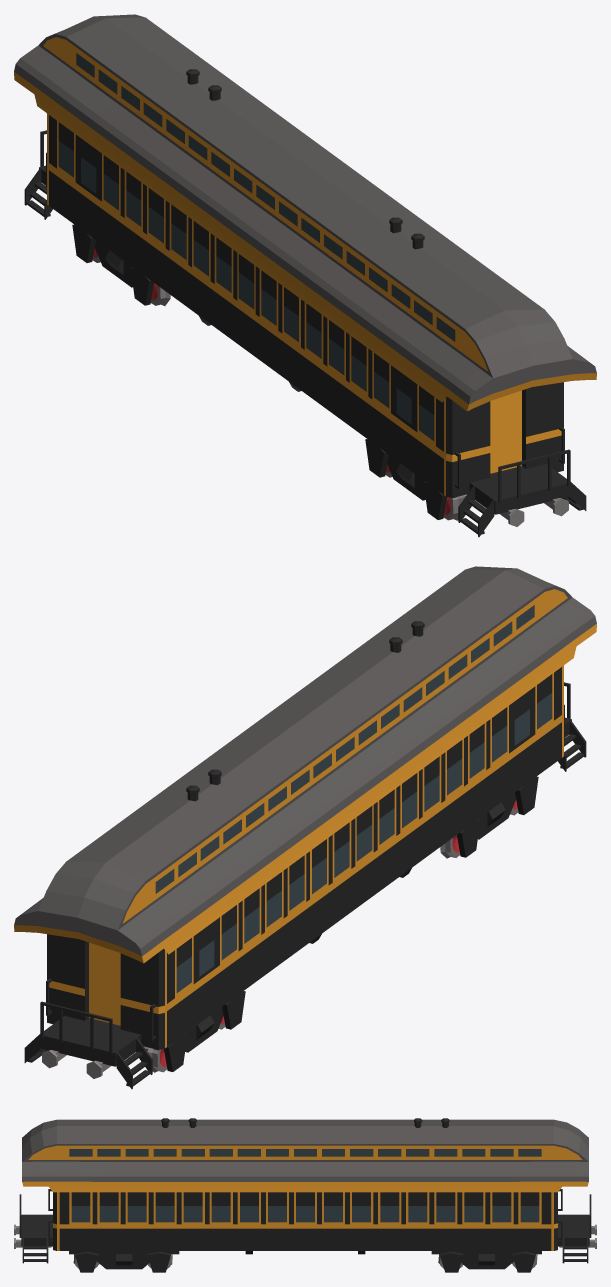
The model's file is vehicles_wagon-western.fbx.
3 views of the same model, one above another, from view 1: azimuth 30°, elevation 25°; view 2: azimuth 150°, elevation 25°; view 3: azimuth 270°, elevation 25° (orthographic). The views are drawn at different scales.
Visible parts, largest first — view 1: wagon_western_base, wagon_wheel_base1, wagon_wheel_base2; view 2: wagon_western_base, wagon_wheel_base2, wagon_wheel_base1; view 3: wagon_western_base, wagon_wheel_base1, wagon_wheel_base2.
Boxes of the visible parts, left/top/right/bottom form: wagon_western_base: left=14, top=14, right=596, bottom=537; wagon_wheel_base1: left=365, top=439, right=456, bottom=519; wagon_wheel_base2: left=72, top=224, right=153, bottom=305; wagon_western_base: left=14, top=566, right=596, bottom=1089; wagon_wheel_base2: left=154, top=991, right=245, bottom=1071; wagon_wheel_base1: left=457, top=776, right=538, bottom=857; wagon_western_base: left=14, top=1118, right=596, bottom=1263; wagon_wheel_base1: left=69, top=1251, right=179, bottom=1272; wagon_wheel_base2: left=431, top=1251, right=541, bottom=1272.
Bounding box in the file's own units: 32.44 × 54.33 × 200.
